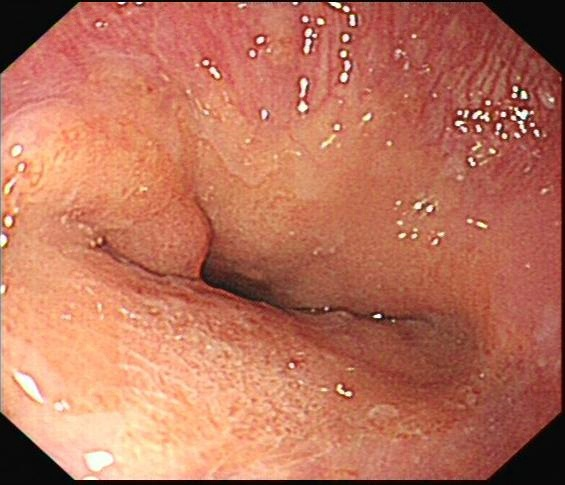Polyp: (100, 188, 213, 280)
